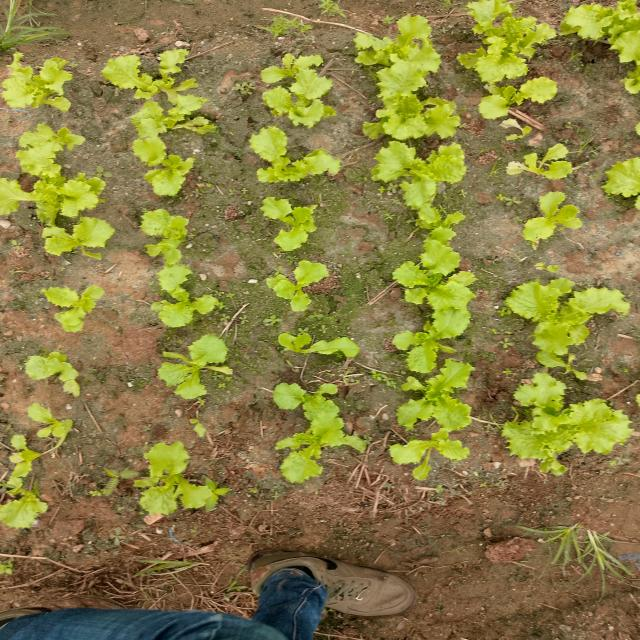Lettuce: (106, 39, 225, 130), (504, 278, 628, 357), (380, 137, 476, 236), (515, 388, 624, 474), (373, 234, 481, 320), (353, 17, 470, 93), (8, 128, 90, 225), (235, 122, 339, 198), (152, 315, 227, 411), (471, 5, 559, 86), (359, 83, 480, 141), (245, 48, 338, 123), (564, 0, 640, 85), (250, 250, 358, 307), (389, 361, 474, 428), (126, 125, 192, 202), (268, 426, 344, 490), (384, 316, 470, 372), (159, 254, 228, 323), (384, 430, 473, 482), (34, 215, 118, 270), (515, 187, 581, 256), (257, 193, 323, 259), (22, 334, 88, 400), (133, 438, 195, 507), (0, 54, 72, 111), (281, 316, 361, 363), (266, 376, 341, 424), (30, 280, 102, 330), (502, 141, 572, 192), (508, 370, 570, 426), (23, 406, 72, 472), (612, 148, 640, 204)
